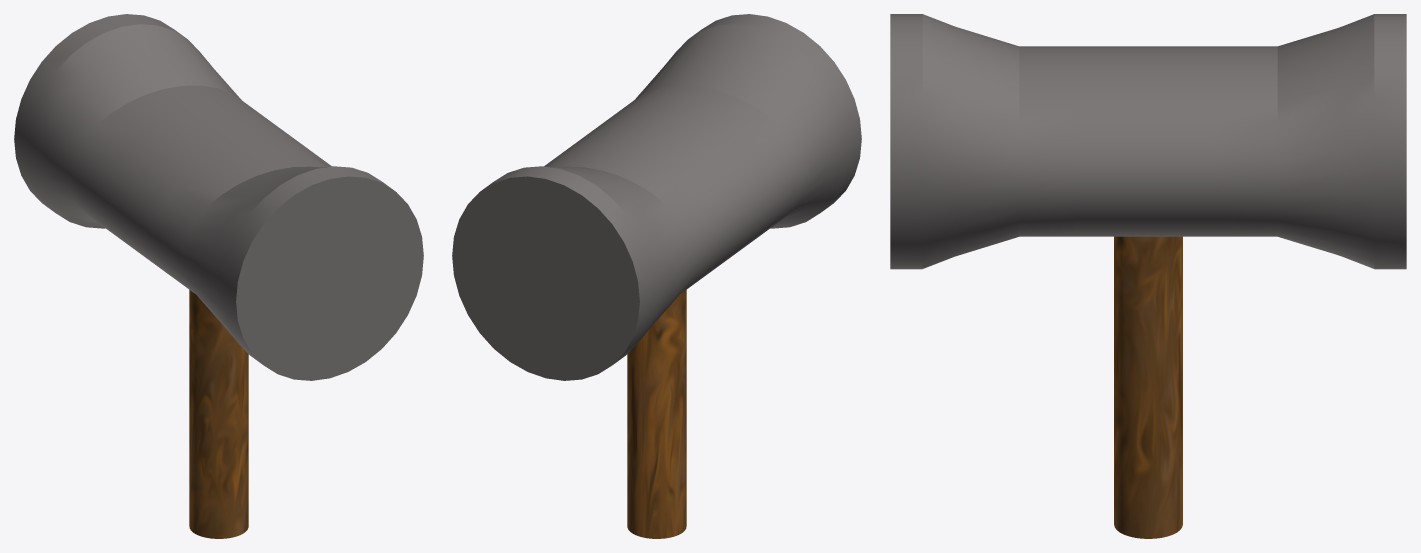
File: Hammer.fbx
The picture shows the model from 3 angles, left to right: view 1: azimuth 30°, elevation 25°; view 2: azimuth 150°, elevation 25°; view 3: azimuth 270°, elevation 25°; orthographic projection. The views are drawn at different scales.
Parts seen in each view (by area): view 1: Hammer, Holder; view 2: Hammer, Holder; view 3: Hammer, Holder.
Part boxes in pixels (left/top/right/bottom): Hammer: left=14, top=14, right=423, bottom=380; Holder: left=189, top=290, right=248, bottom=538; Hammer: left=452, top=14, right=861, bottom=380; Holder: left=627, top=290, right=686, bottom=538; Hammer: left=890, top=14, right=1406, bottom=269; Holder: left=1114, top=236, right=1182, bottom=538.
Size of the model in its own units: 61.52 by 134 by 126.
2 materials, 2 textured.
